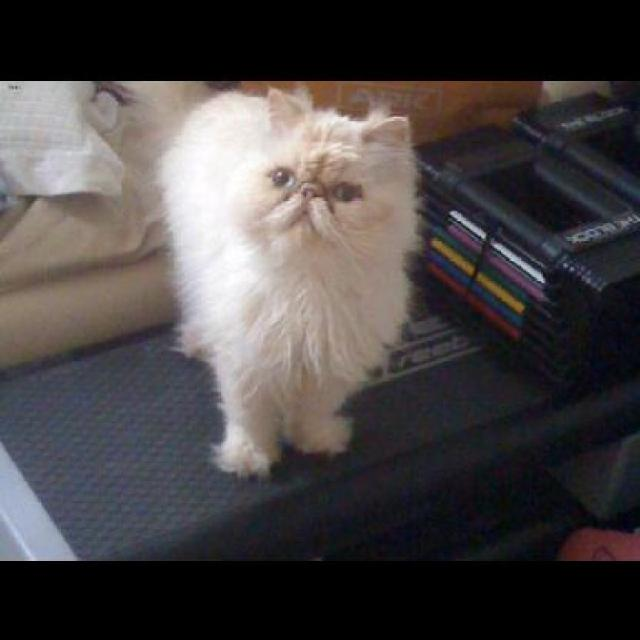unauthorized: (154, 83, 423, 480)
